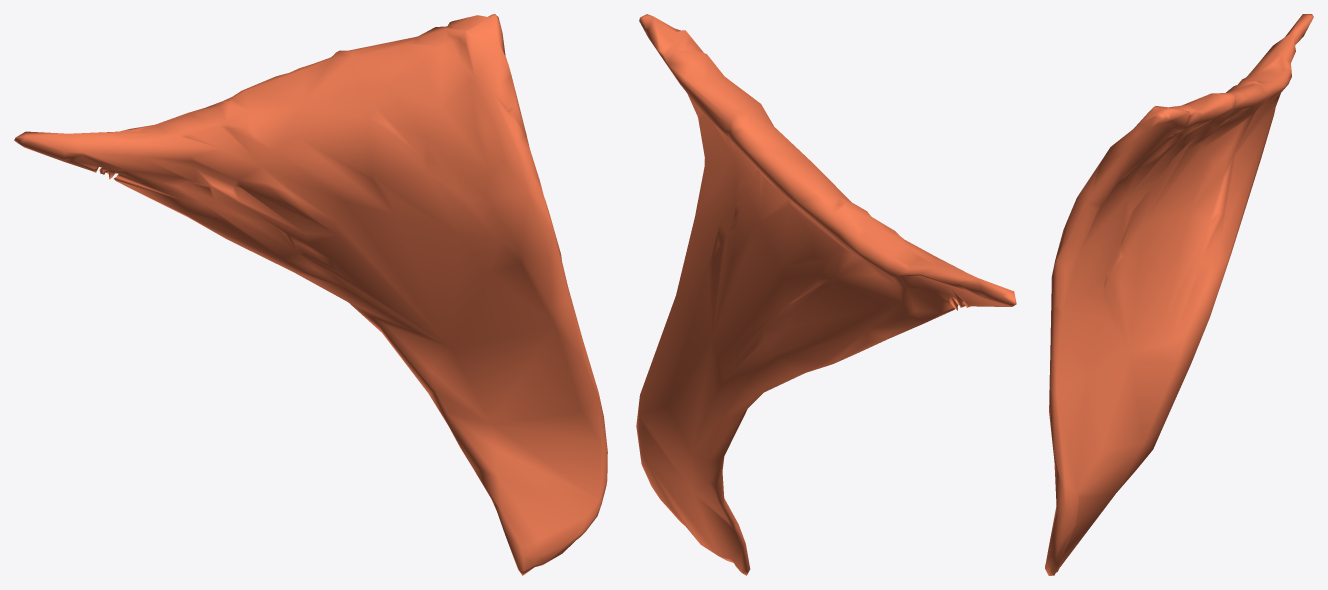
The model's file is Levator_labii_superioris.r_Generated_Mesh_From_X3D.392.glb.
The picture shows the model from 3 angles, left to right: view 1: azimuth 30°, elevation 25°; view 2: azimuth 150°, elevation 25°; view 3: azimuth 270°, elevation 25°; orthographic projection. The views are drawn at different scales.
Visible parts, largest first — view 1: Levator_labii_superioris.r_Generated_Mesh_From_X3D.392; view 2: Levator_labii_superioris.r_Generated_Mesh_From_X3D.392; view 3: Levator_labii_superioris.r_Generated_Mesh_From_X3D.392.
Boxes of the visible parts, x1,y1,x2,y2 form: Levator_labii_superioris.r_Generated_Mesh_From_X3D.392: (14,14,607,575); Levator_labii_superioris.r_Generated_Mesh_From_X3D.392: (636,14,1016,575); Levator_labii_superioris.r_Generated_Mesh_From_X3D.392: (1045,14,1313,575).
Bounding box in the file's own units: 0.027 × 0.0289 × 0.0149.
